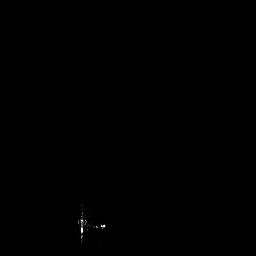ship: (75, 208, 107, 242)
